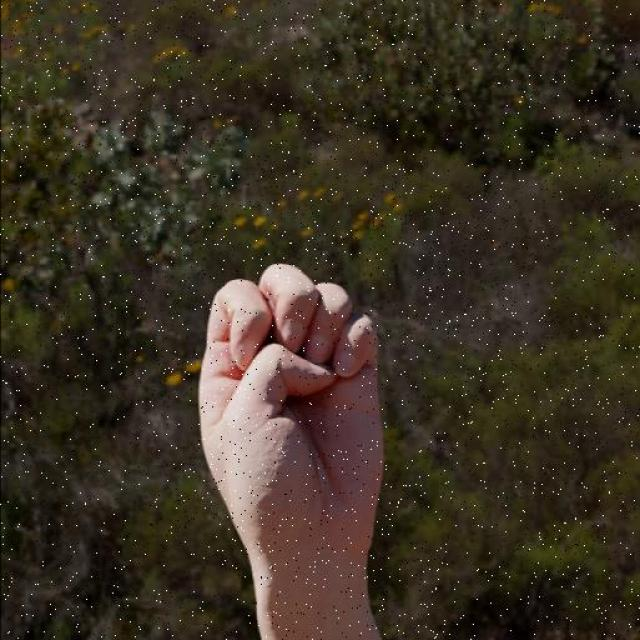E: (194, 260, 389, 570)
